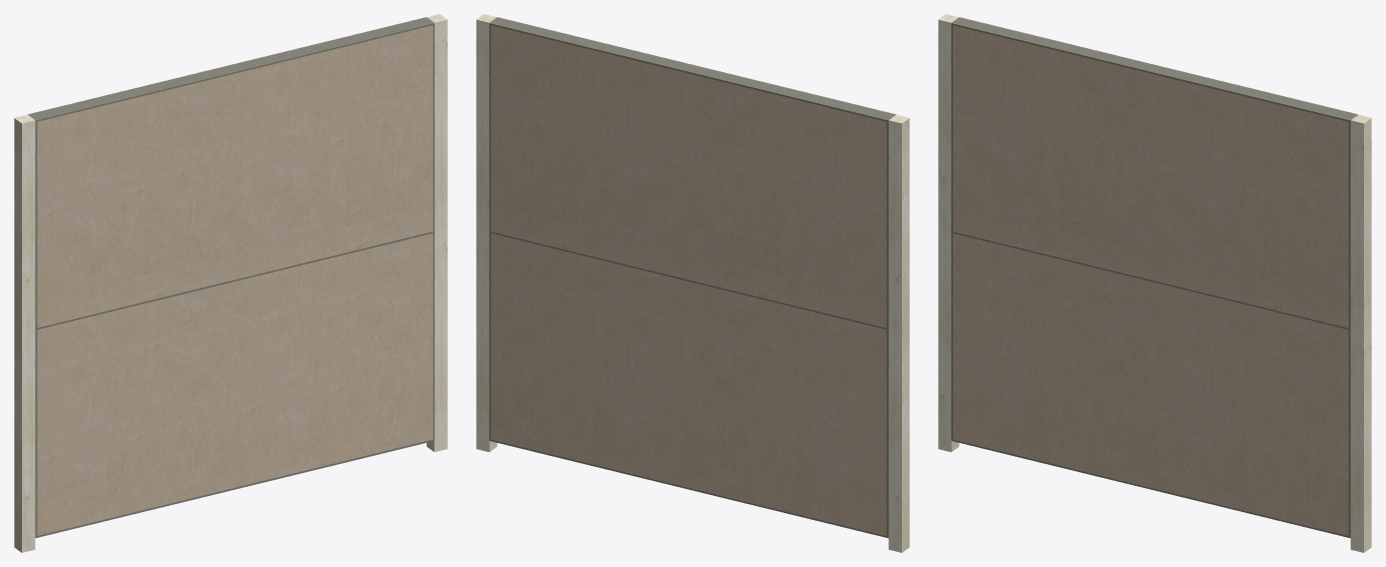
File: ABF3-H1800_sepiamarble.fbx
3 views of the same model, side by side, from view 1: azimuth 30°, elevation 25°; view 2: azimuth 150°, elevation 25°; view 3: azimuth 330°, elevation 25° (orthographic).
Parts seen in each view (by area): view 1: 1850-1920-60_sepia marble; view 2: 1850-1920-60_sepia marble; view 3: 1850-1920-60_sepia marble.
Boxes of the visible parts, x1,y1,x2,y2 form: 1850-1920-60_sepia marble: [14, 14, 447, 552]; 1850-1920-60_sepia marble: [476, 14, 909, 552]; 1850-1920-60_sepia marble: [938, 14, 1371, 552].
Bounding box in the file's own units: 192 × 185 × 6.4.
Materials: 5 (4 with a texture image).
